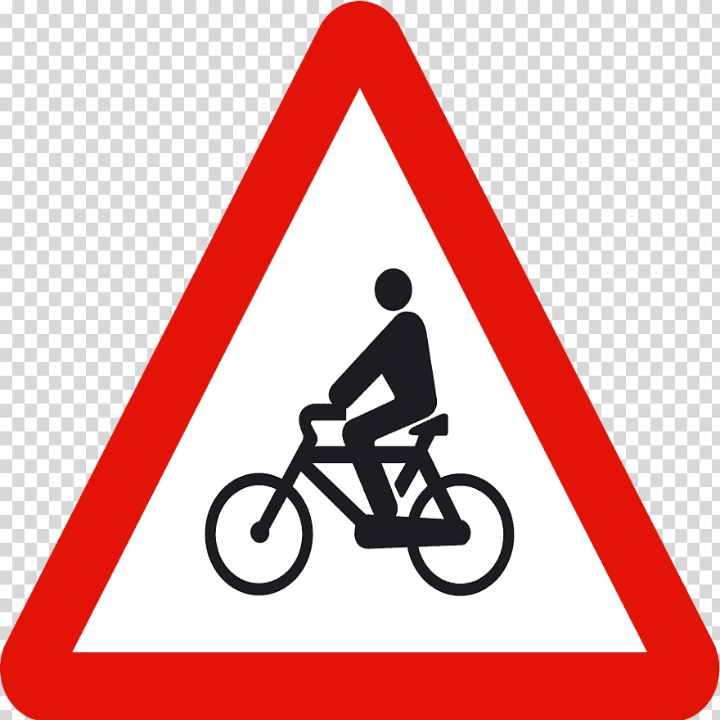bicycle: (203, 401, 517, 599)
